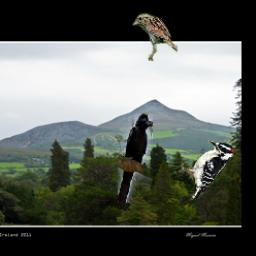Crow: (118, 113, 153, 203)
Sparrow: (132, 12, 178, 61)
Woodpecker: (174, 141, 235, 201)
